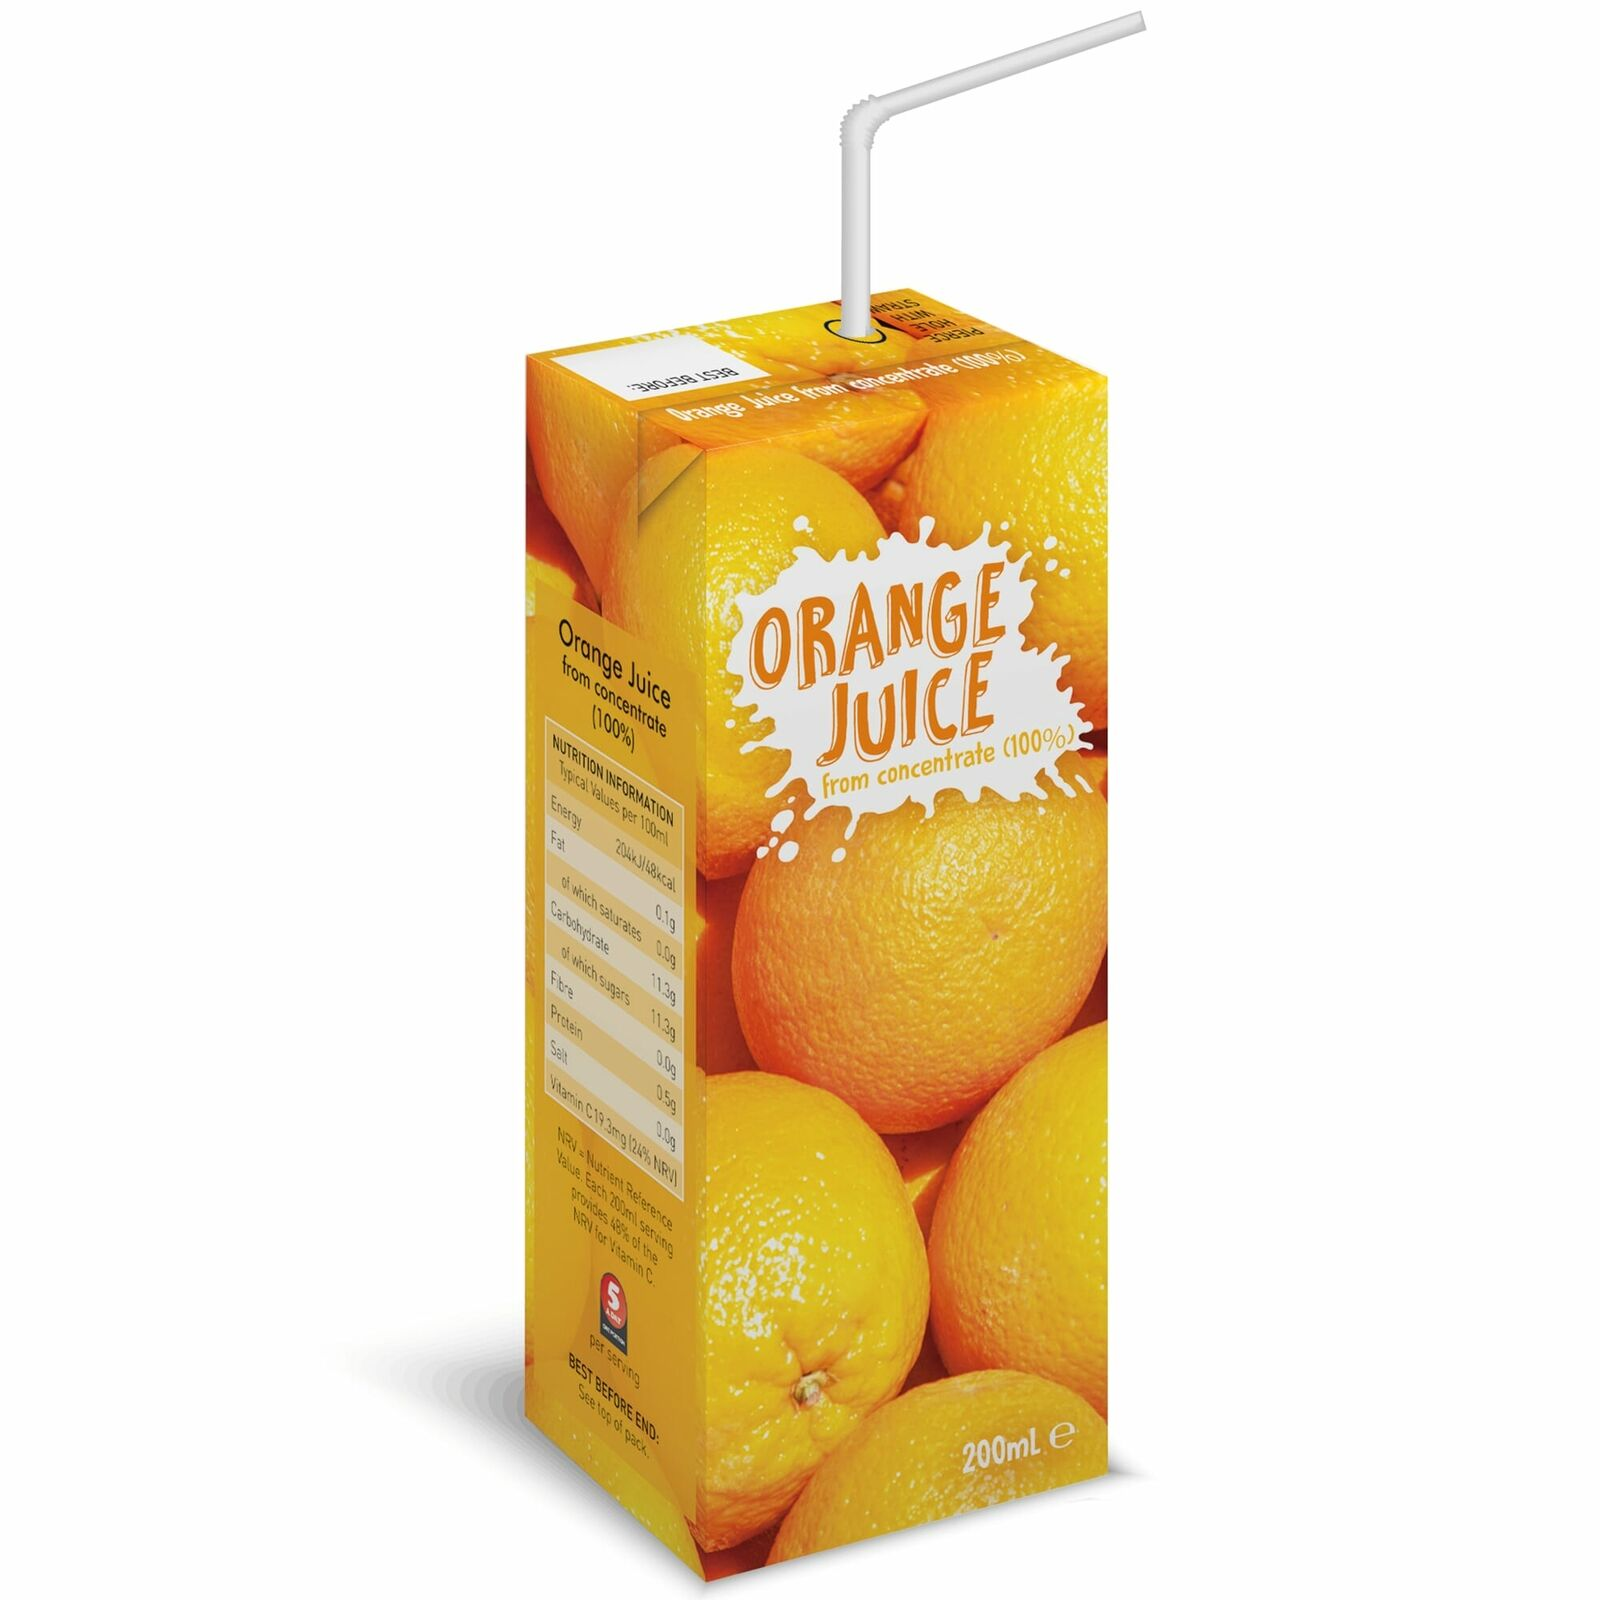carton: (456, 160, 1174, 1600)
